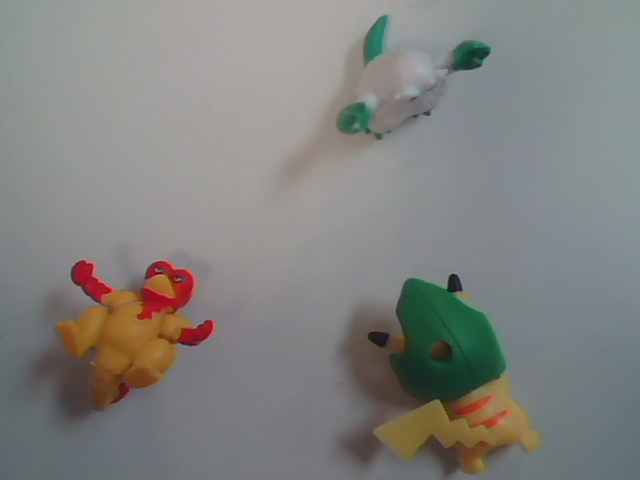abomasnow: (323, 0, 519, 205)
magmar: (32, 224, 261, 428)
pikachu: (350, 256, 579, 480)
